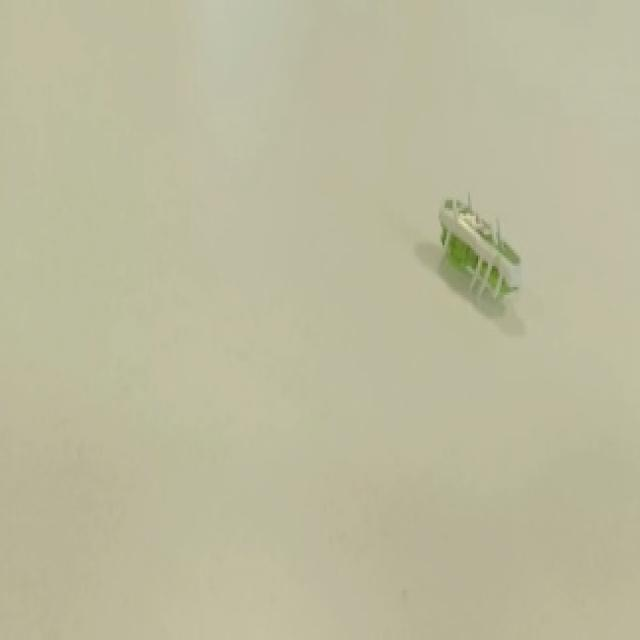4_NanoBug_Blanco: (416, 192, 540, 337)
